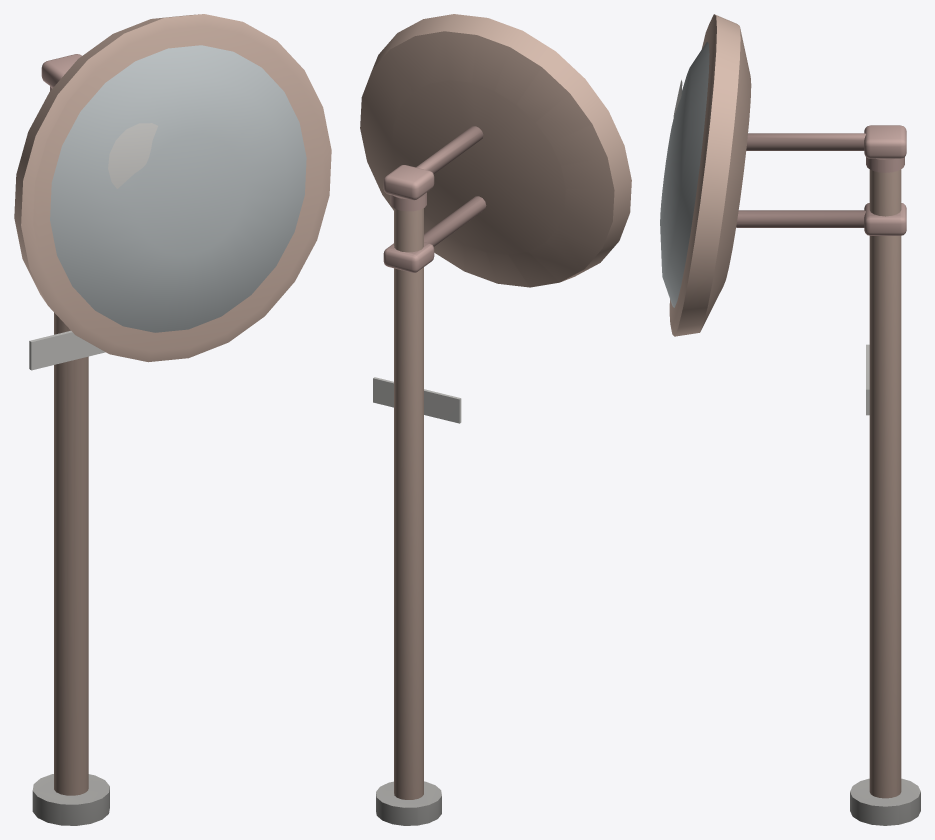
Rendered from mirror.glb.
3 views of the same model, side by side, from view 1: azimuth 30°, elevation 25°; view 2: azimuth 150°, elevation 25°; view 3: azimuth 270°, elevation 25° (orthographic). The views are drawn at different scales.
Visible parts, largest first — view 1: mirror.001; view 2: mirror.001; view 3: mirror.001.
Boxes of the visible parts, x1,y1,x2,y2 form: mirror.001: (14, 14, 331, 825); mirror.001: (360, 14, 631, 825); mirror.001: (660, 14, 920, 825).
Bounding box in the file's own units: 0.92 × 2.43 × 0.7354.
